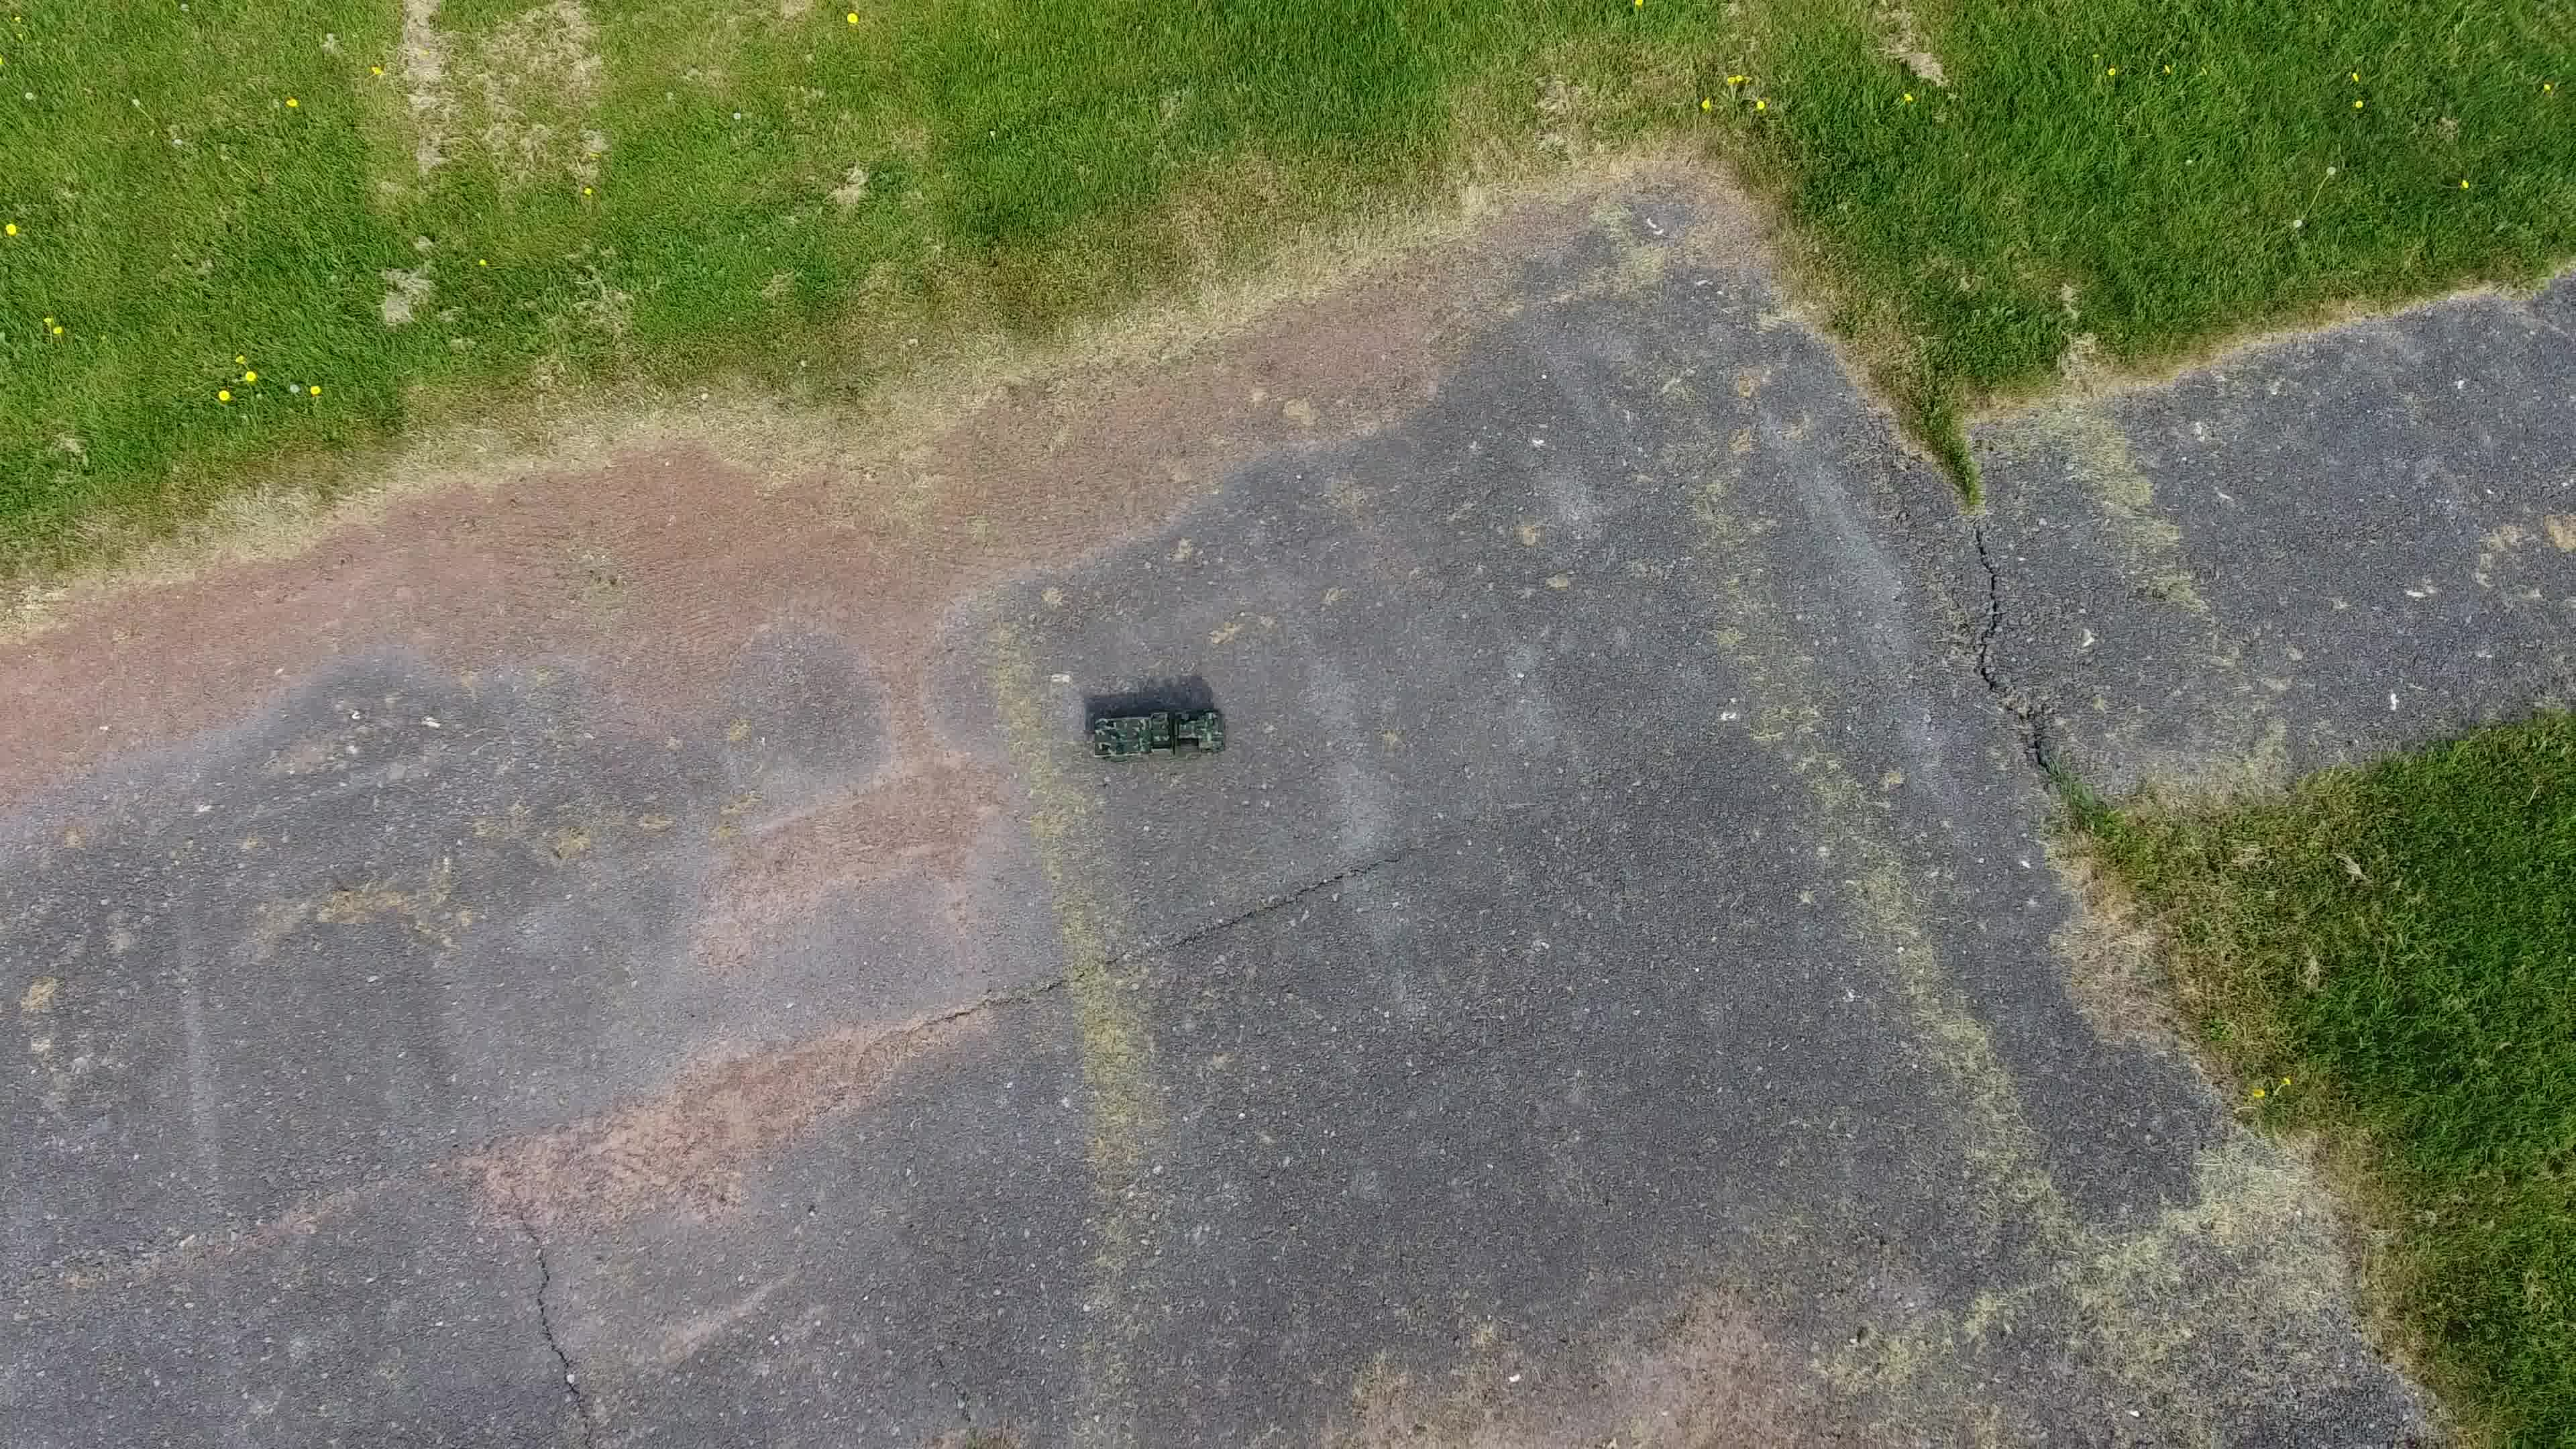transporter9_camo: (1088, 702, 1231, 764)
